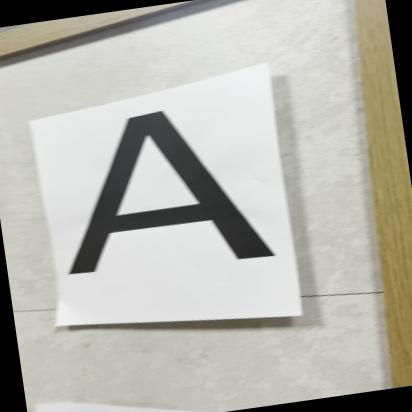seat: (39, 84, 292, 313)
